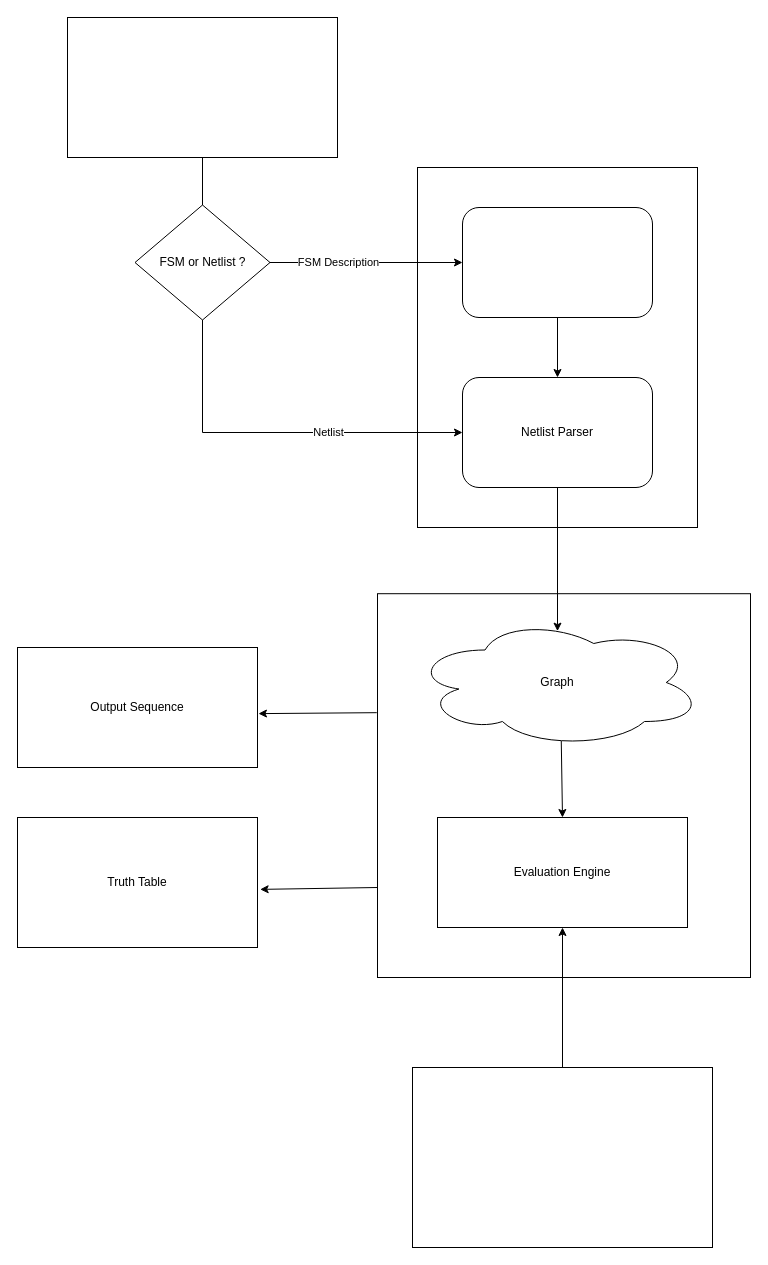
Image size: 768x1265. Some labels were removed from this diagram. The shapes that lost their labels are listed below. From the top down, each one's centre as x and y in pixels, then its label:
At point (202, 87): "Circuit Description / FSM description".
At point (557, 262): "FSM desc parser".
At point (562, 1157): "Input Sequence".
